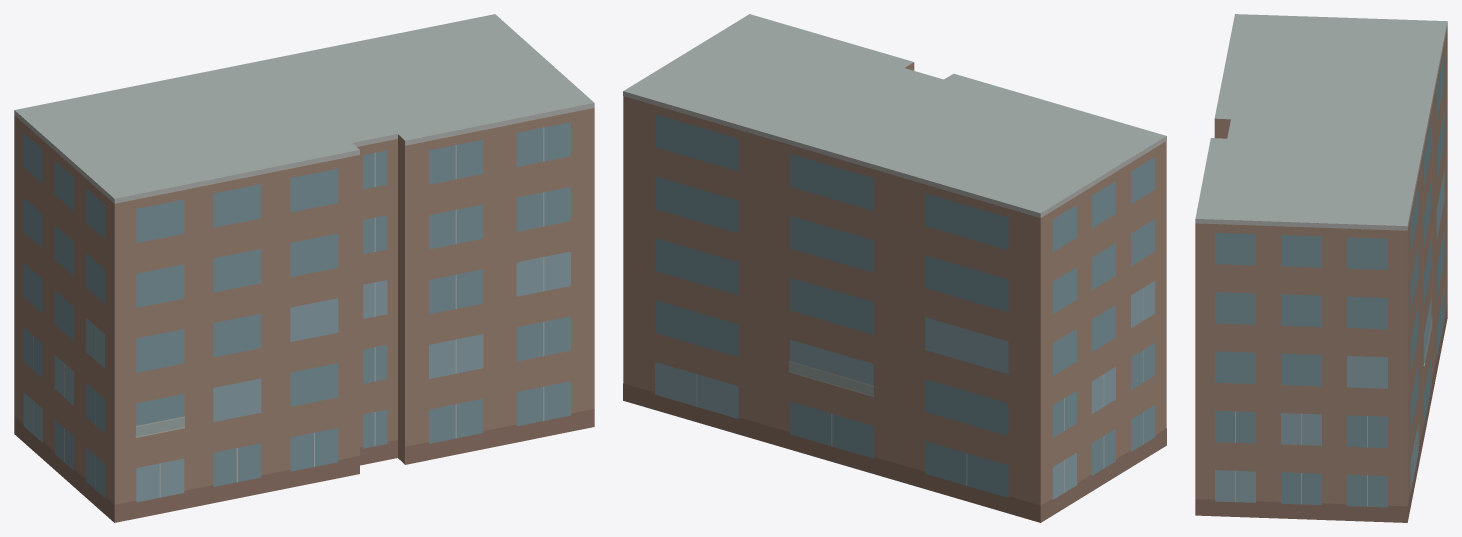
The model's file is survey-upis-32759780.glb.
The picture shows the model from 3 angles, left to right: view 1: azimuth 30°, elevation 25°; view 2: azimuth 150°, elevation 25°; view 3: azimuth 270°, elevation 25°; orthographic projection. The views are drawn at different scales.
Visible parts, largest first — view 1: survey-upis-32759780.tmp; view 2: survey-upis-32759780.tmp; view 3: survey-upis-32759780.tmp.
Part boxes in pixels (bbox=[...]): survey-upis-32759780.tmp: bbox=[14, 14, 594, 522]; survey-upis-32759780.tmp: bbox=[623, 14, 1166, 522]; survey-upis-32759780.tmp: bbox=[1195, 14, 1447, 522].
Bounding box in the file's own units: 24.4 × 15.9 × 12.26.
